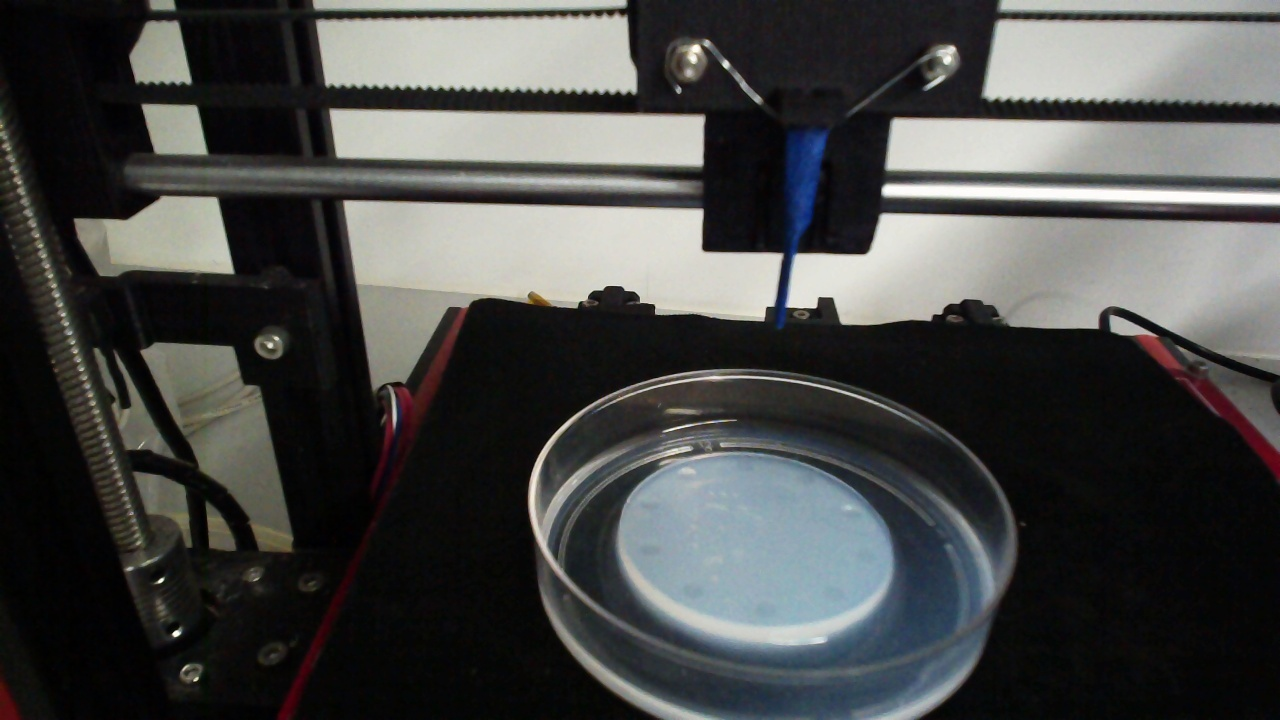groove: (820, 583, 846, 604), (753, 599, 777, 620), (636, 541, 664, 558), (793, 469, 819, 486), (681, 583, 706, 600), (855, 547, 878, 565), (839, 504, 863, 521), (731, 457, 755, 473), (676, 466, 698, 481), (638, 497, 661, 511)
needle: (774, 130, 827, 330)
